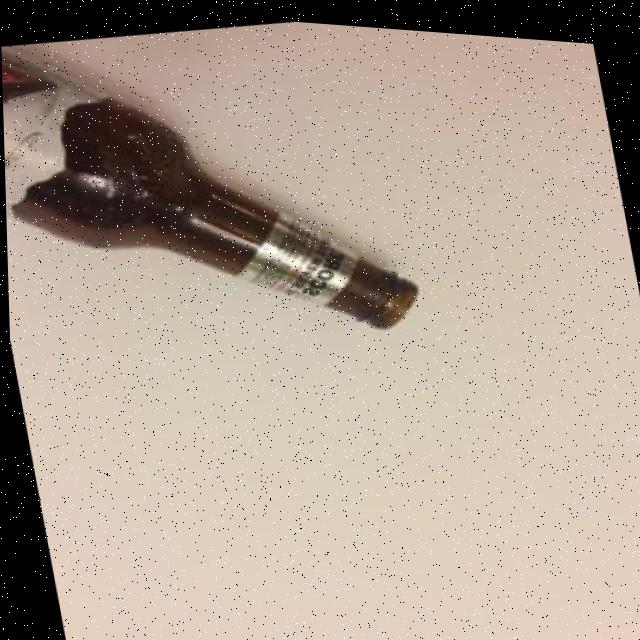glass: (0, 0, 444, 397)
